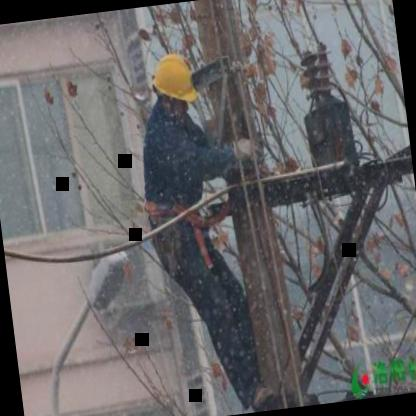helmet: (144, 46, 199, 118)
